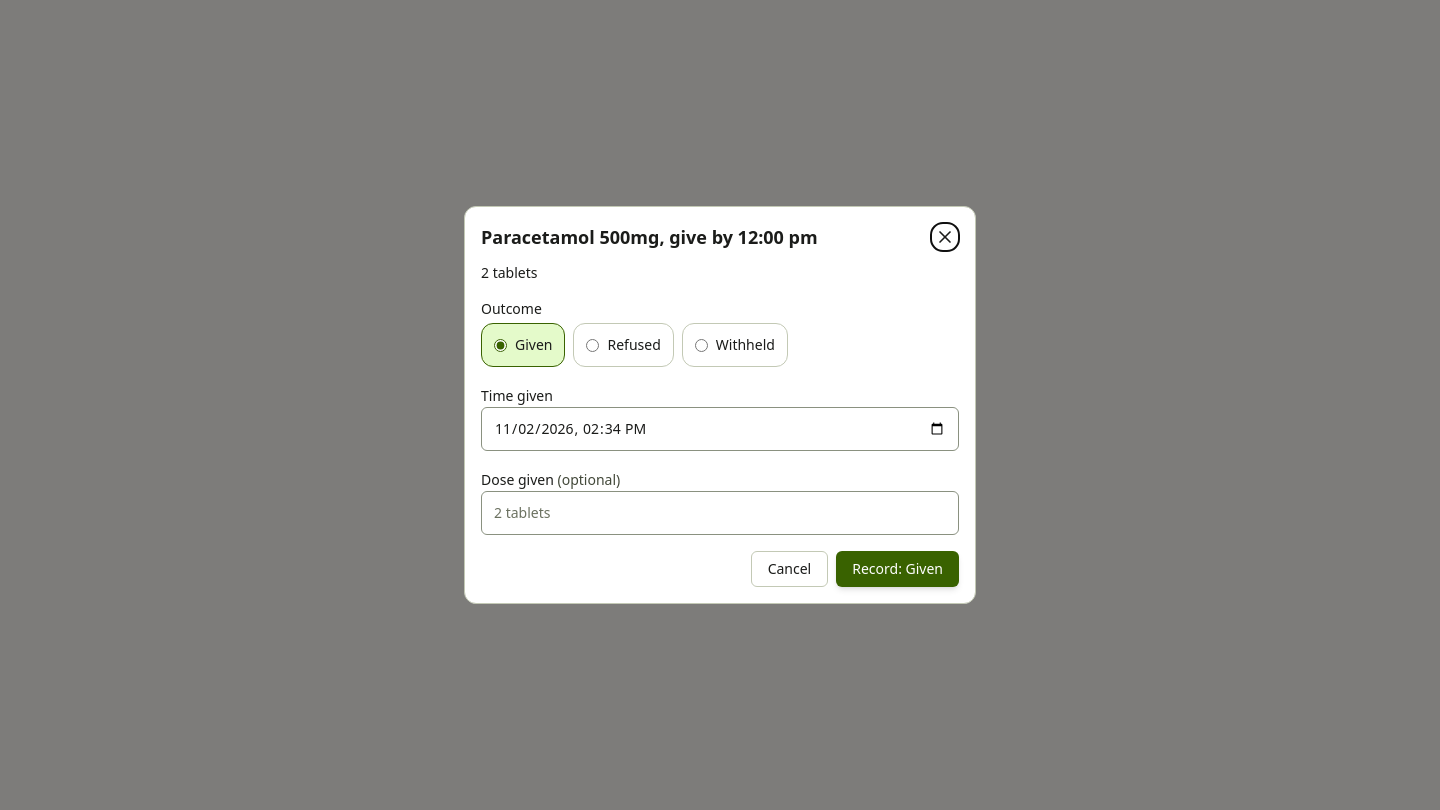
Test: DoseSheet: competency, errors, offline › names who already recorded the dose on a 409
Click the button "Record: Given" at (898,569), box left=836, top=551, right=959, bottom=587
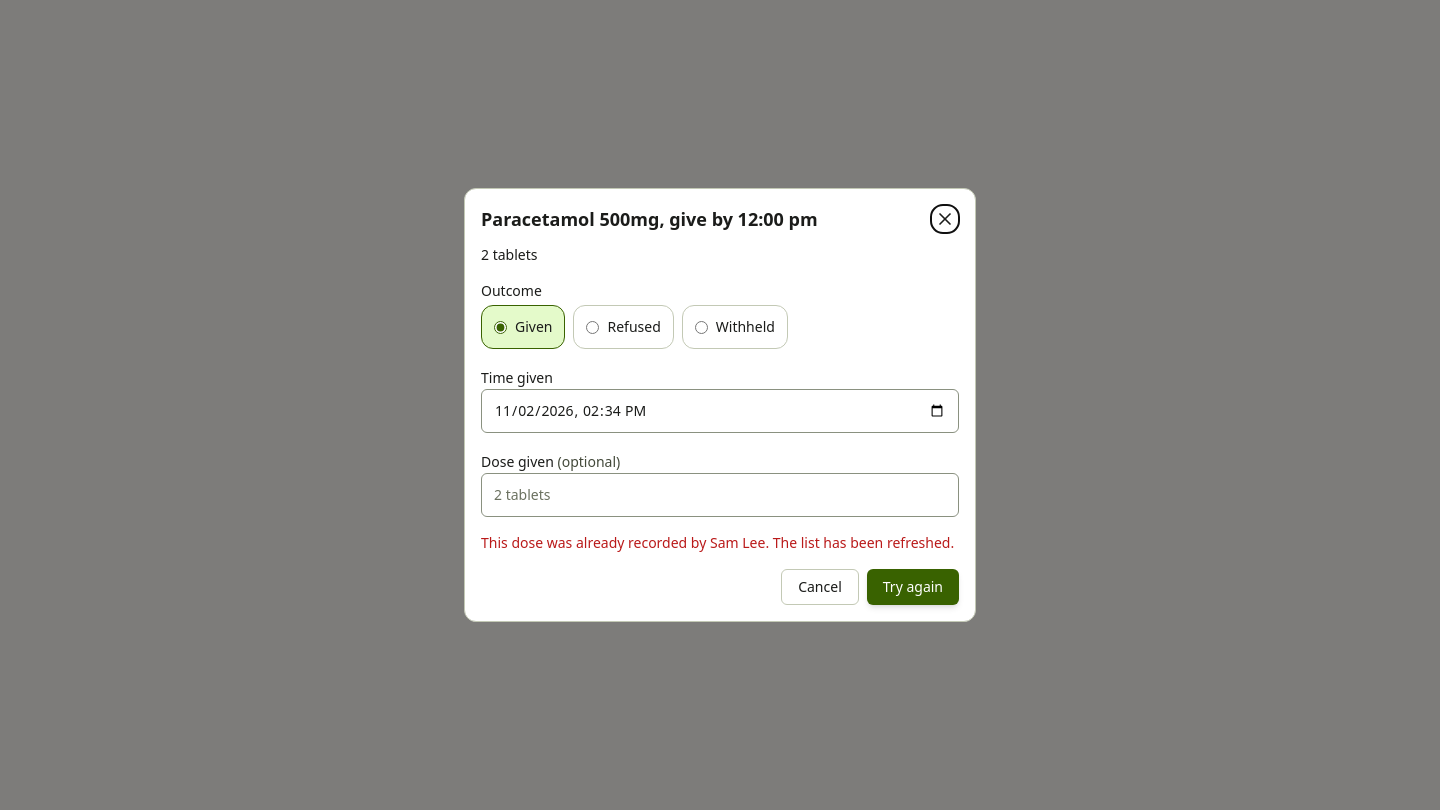
expect the text "This dose was already recorded by Sam Lee. The list has been refreshed." is shown: met, box left=481, top=533, right=959, bottom=553
